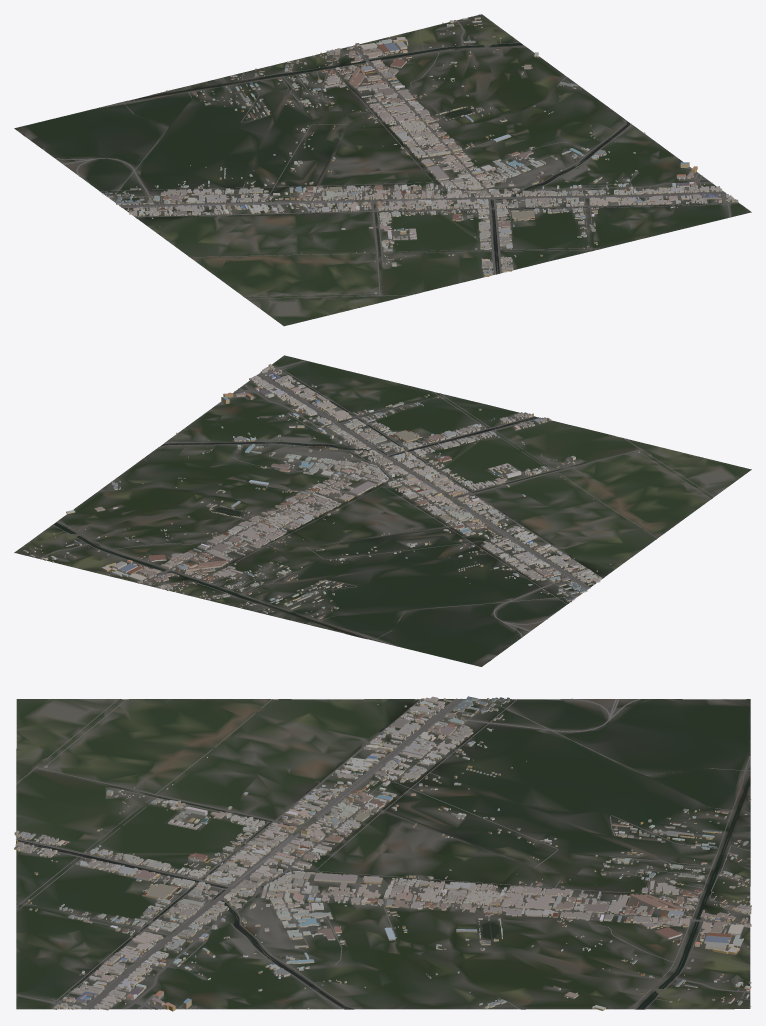
3 views of the same model, one above another, from view 1: azimuth 30°, elevation 25°; view 2: azimuth 150°, elevation 25°; view 3: azimuth 270°, elevation 25° (orthographic). The views are drawn at different scales.
Parts seen in each view (by area): view 1: ground, buildings, roads, water; view 2: ground, buildings, roads, water; view 3: ground, buildings, roads, water.
Part boxes in pixels (x1,y1,x2,y2): ground: (14, 14, 751, 326); buildings: (102, 14, 738, 293); roads: (55, 18, 738, 298); water: (23, 43, 738, 292); ground: (14, 355, 751, 666); buildings: (17, 364, 639, 629); roads: (28, 360, 714, 646); water: (54, 377, 624, 660); ground: (16, 699, 750, 1009); buildings: (14, 696, 751, 1011); roads: (16, 698, 750, 1009); water: (17, 699, 749, 1009).
Bounding box in the file's own units: 2831 × 27.65 × 2816.
